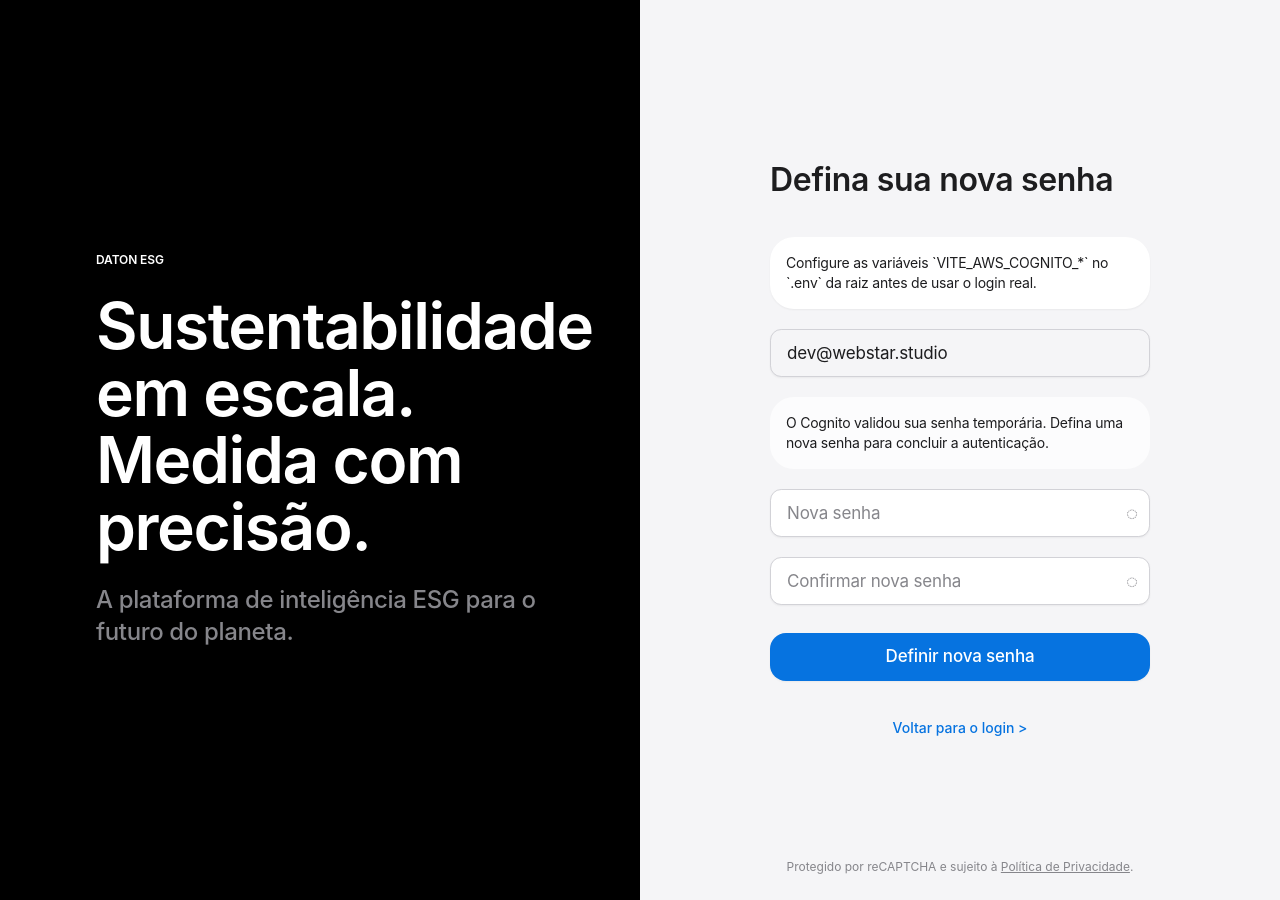
Test case: App › shows an inline error when the new password confirmation does not match
Type "NovaSenha123!" into the password field labelled "Nova senha". click: (960,513)
box: [770,489,1150,537]
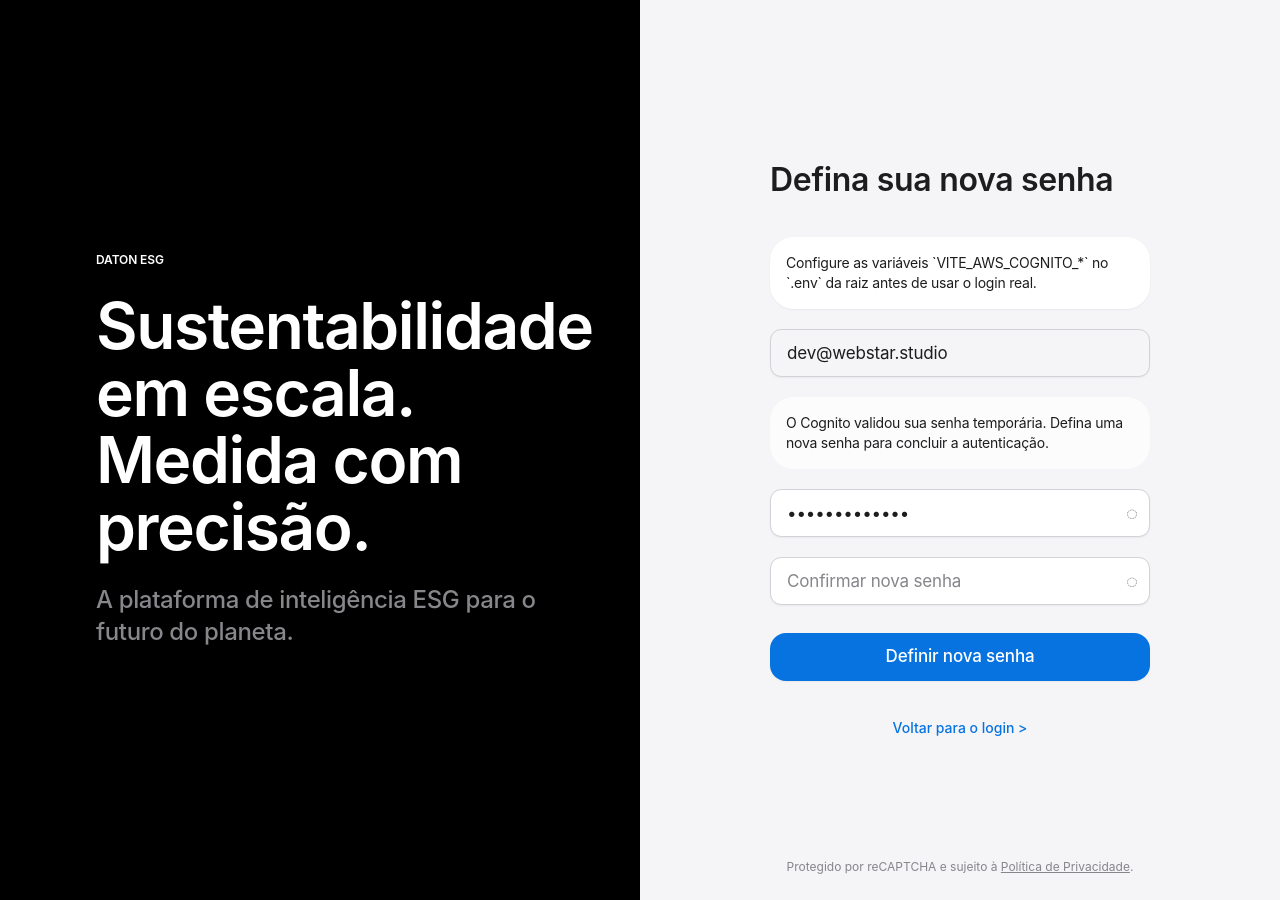
Type "OutraSenha123!" into the password field labelled "Confirmar nova senha". click: (960,581)
box: [770,557,1150,605]
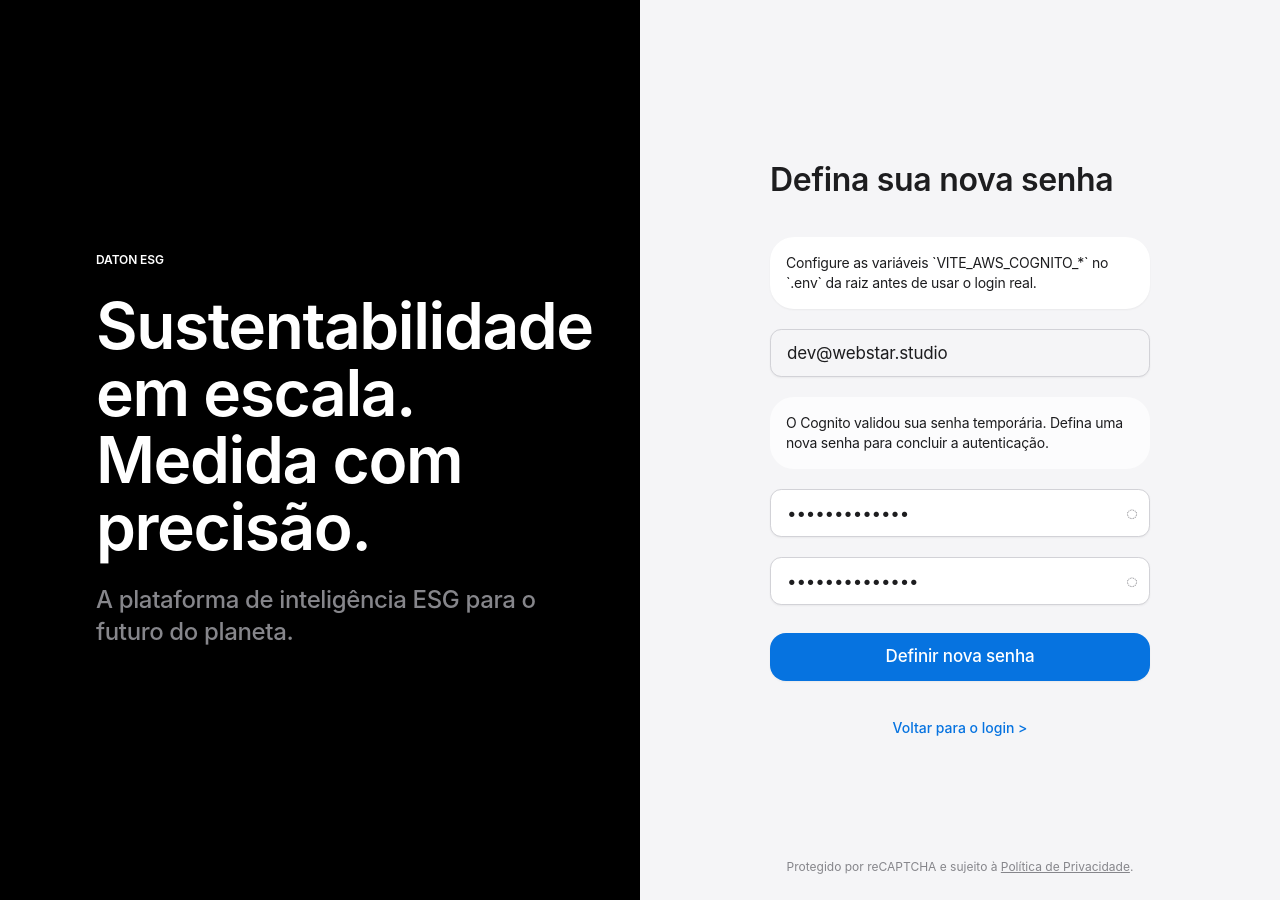
Click the 1st button named "definir nova senha". click: (960,657)
box: [770,633,1150,681]
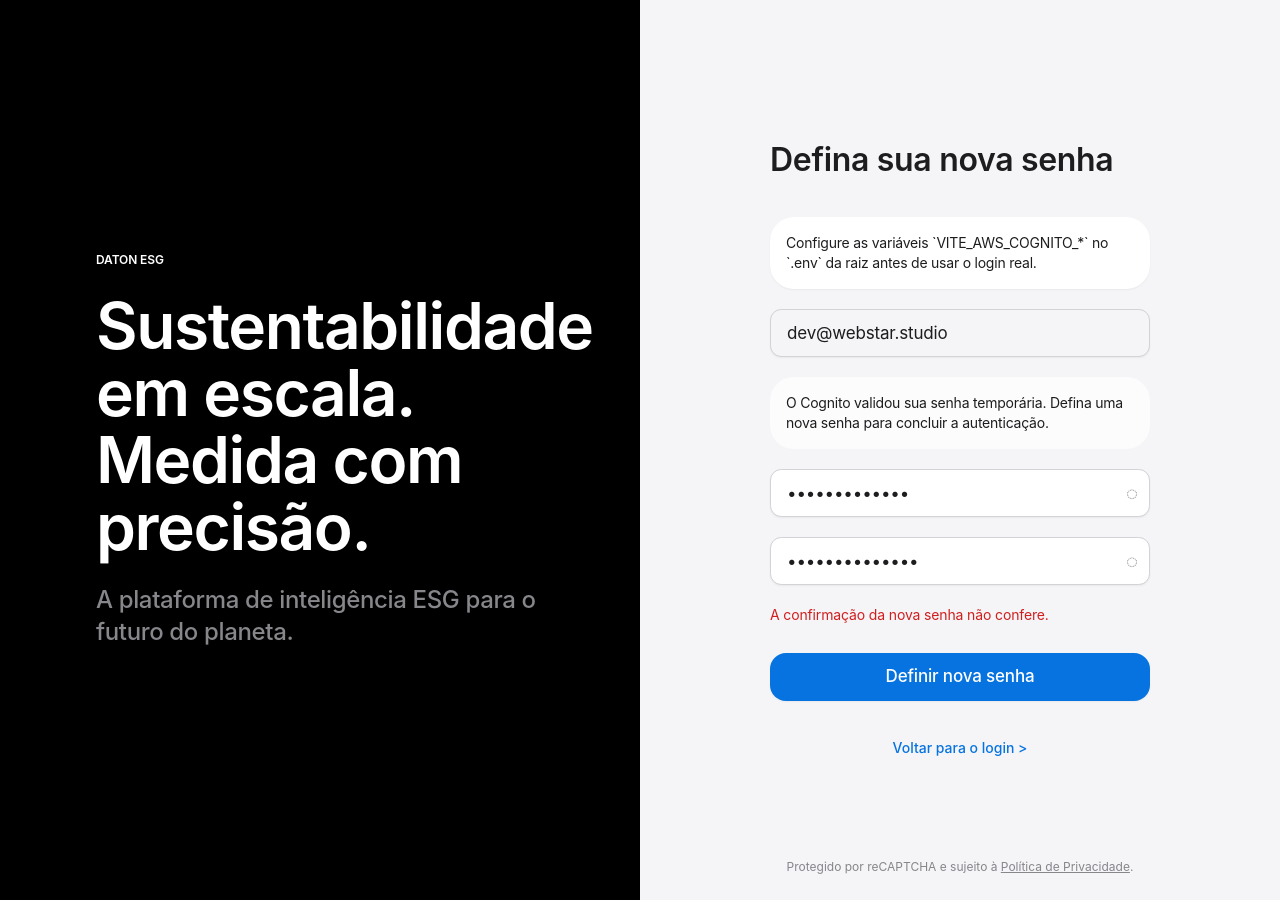
expect the text "a confirmação da nova senha não confere" is shown: met, box [770,606,1049,623]
